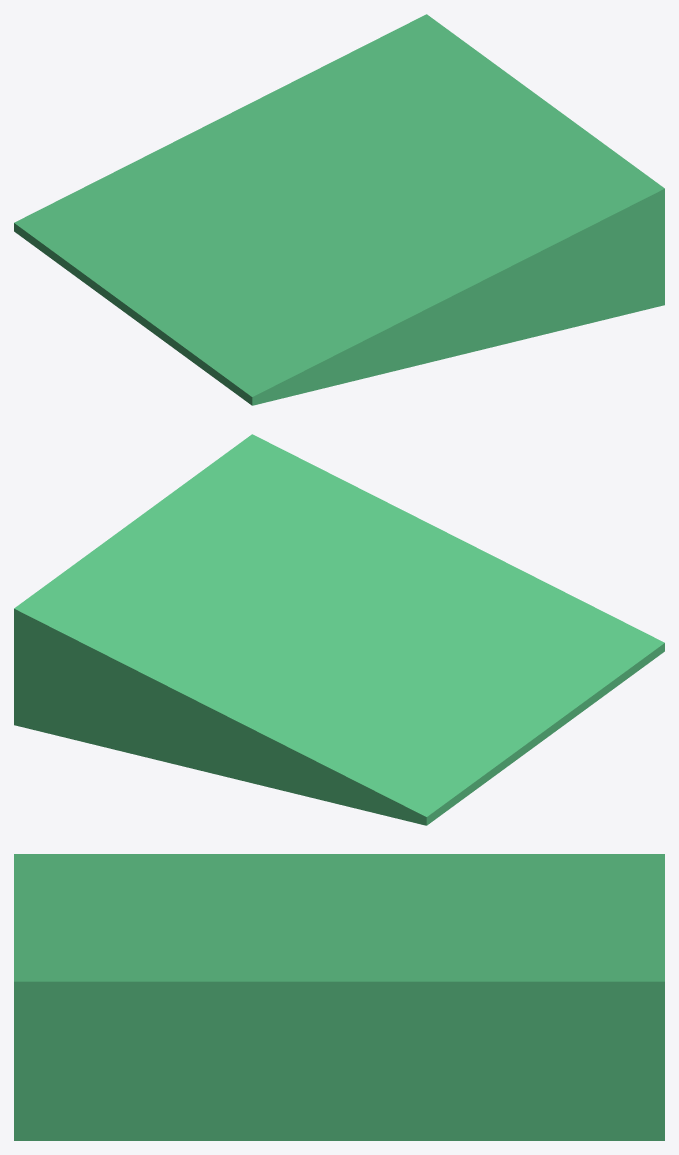
Rendered from tile_slant.glb.
3 renders of one model, top to bottom at view 1: azimuth 30°, elevation 25°; view 2: azimuth 150°, elevation 25°; view 3: azimuth 270°, elevation 25°, orthographic. The views are drawn at different scales.
Parts seen in each view (by area): view 1: tile-slant; view 2: tile-slant; view 3: tile-slant.
Part boxes in pixels (box(x1,y1,x2,y2)): tile-slant: box(14, 14, 664, 405); tile-slant: box(14, 434, 664, 825); tile-slant: box(14, 854, 664, 1140).
Size of the model in its own units: 1 by 0.27 by 1.
1 material, 1 textured.
